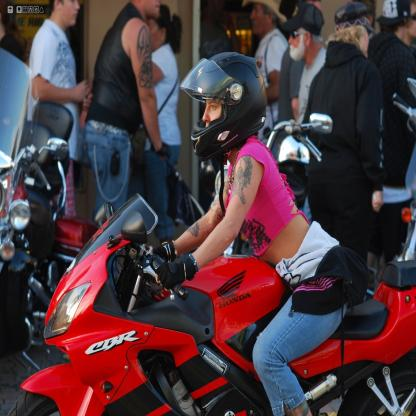Helmet: (178, 55, 272, 161)
